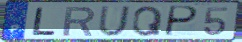5: (203, 6, 231, 36)
L: (30, 6, 58, 36)
P: (163, 5, 200, 38)
Q: (131, 5, 164, 38)
R: (61, 5, 97, 37)
U: (97, 5, 133, 37)
